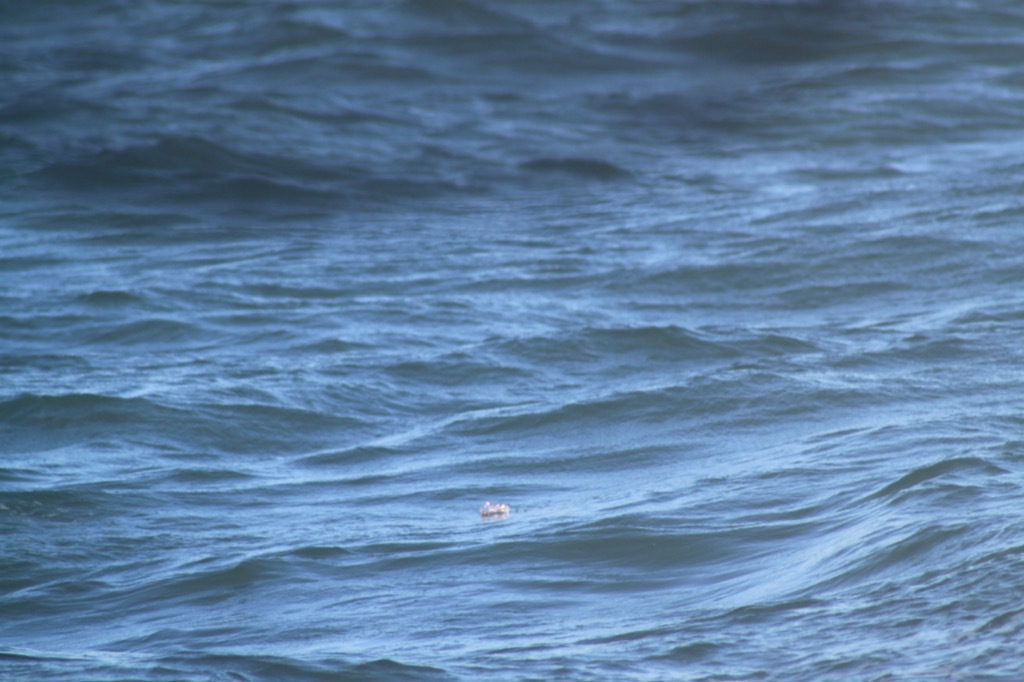plastic: (454, 484, 536, 533)
